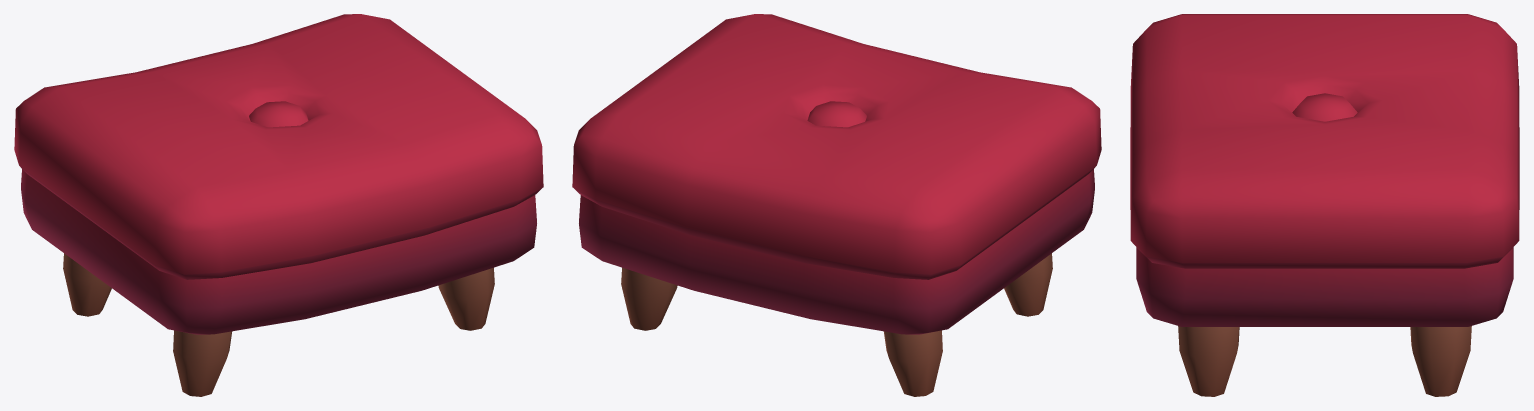
File: footstool_red.obj
3 views of the same model, side by side, from view 1: azimuth 30°, elevation 25°; view 2: azimuth 150°, elevation 25°; view 3: azimuth 270°, elevation 25° (orthographic). The views are drawn at different scales.
Parts seen in each view (by area): view 1: footstool_red; view 2: footstool_red; view 3: footstool_red.
Part boxes in pixels (x1,y1,x2,y2): footstool_red: [14, 14, 543, 396]; footstool_red: [572, 14, 1101, 396]; footstool_red: [1130, 14, 1519, 396].
Size of the model in its own units: 0.8249 by 0.4445 by 0.688.
1 material, 1 textured.
